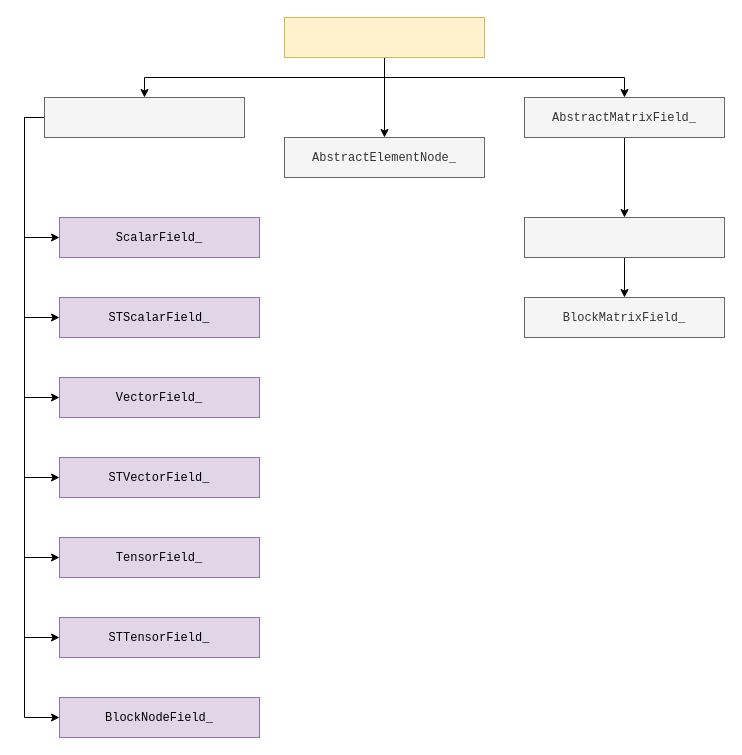
Some shapes in this 742 by 755 pixel diagram are drawn without their labels. Here are the shapes that lost their labels. From the top down, the centre of each, then its label:
At pixel 384 37: "AbastractField_".
At pixel 144 117: "AbstractNodeField_".
At pixel 624 237: "MatrixField_".
